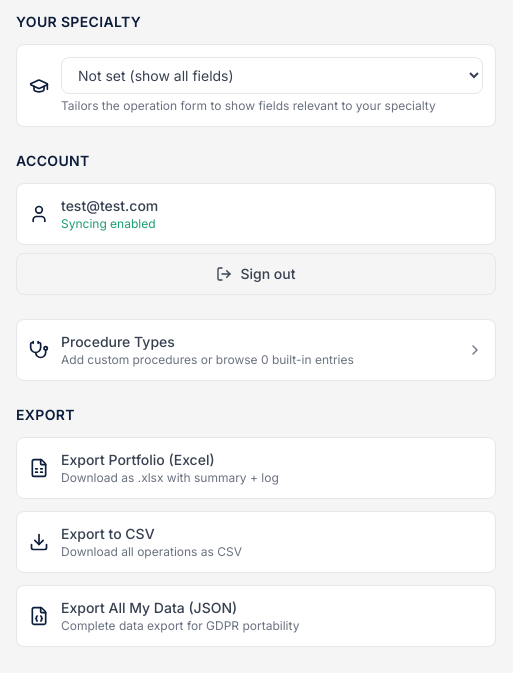
it: SettingsPage › toggles Procedure Types panel
The width and height of the screenshot is (513, 673).
(page scrolled)
Click the button "Procedure Types".
click(256, 350)  # box [16,319,496,381]
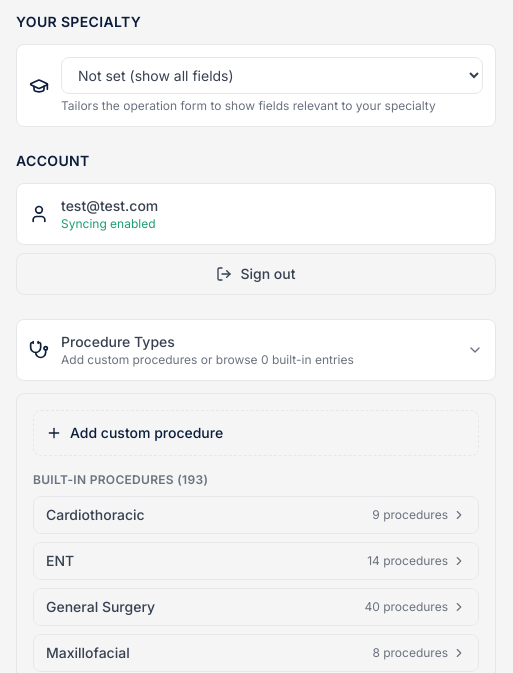
Result: the button "Procedure Types" is expanded at [16,319,496,381]
